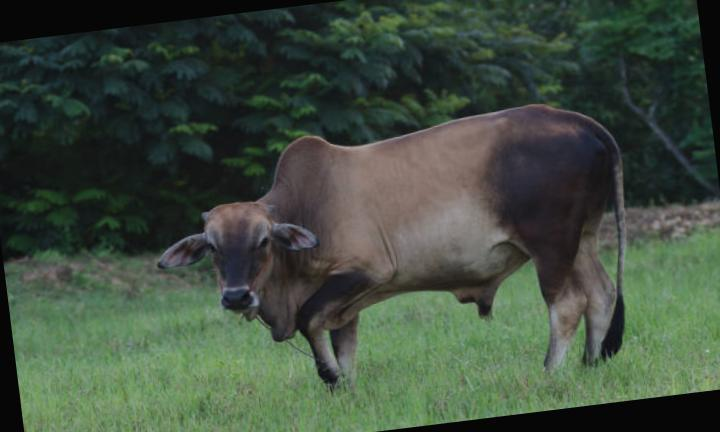Brahman: (159, 105, 625, 383)
